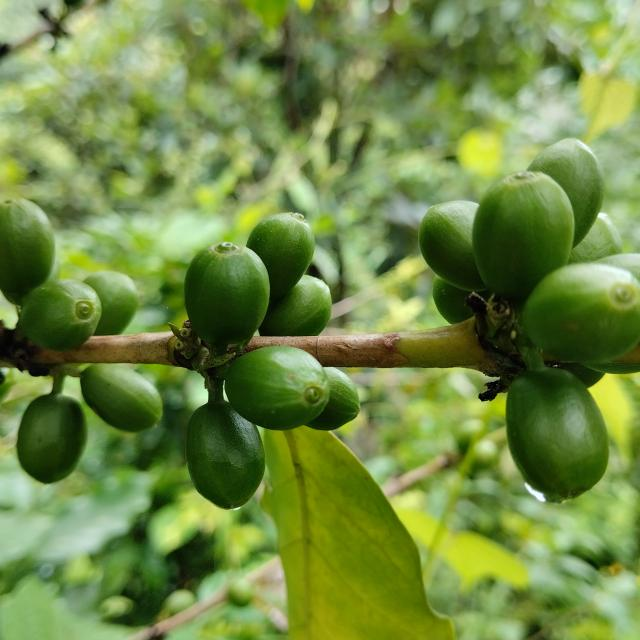Unripe: (507, 368, 610, 503), (473, 171, 576, 299), (524, 263, 640, 364), (184, 241, 270, 351), (224, 346, 330, 431), (185, 400, 265, 510), (528, 138, 605, 247), (16, 386, 86, 484), (419, 200, 487, 291), (247, 212, 315, 301), (18, 279, 101, 351), (0, 198, 54, 304), (80, 364, 162, 432), (258, 275, 332, 336), (83, 271, 138, 336), (307, 367, 360, 431), (570, 212, 624, 264), (433, 275, 474, 324), (596, 253, 640, 282), (564, 363, 606, 388)
